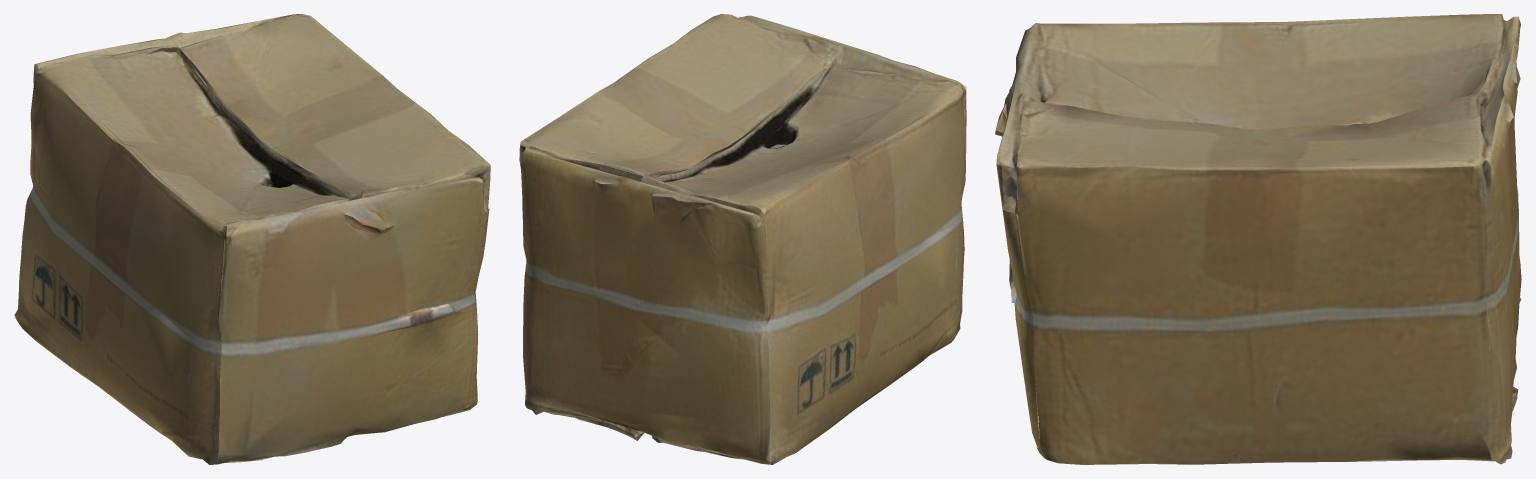
File: goods_cardboard_box.glb
3 views of the same model, side by side, from view 1: azimuth 30°, elevation 25°; view 2: azimuth 150°, elevation 25°; view 3: azimuth 270°, elevation 25° (orthographic). The views are drawn at different scales.
Visible parts, largest first — view 1: goods_cardboard_box; view 2: goods_cardboard_box; view 3: goods_cardboard_box.
Part boxes in pixels (<box>): goods_cardboard_box: <box>14,14,490,464</box>; goods_cardboard_box: <box>519,14,966,464</box>; goods_cardboard_box: <box>995,14,1521,464</box>.
Size of the model in its own units: 0.3872 by 0.3414 by 0.5155.
1 material, 1 textured.
